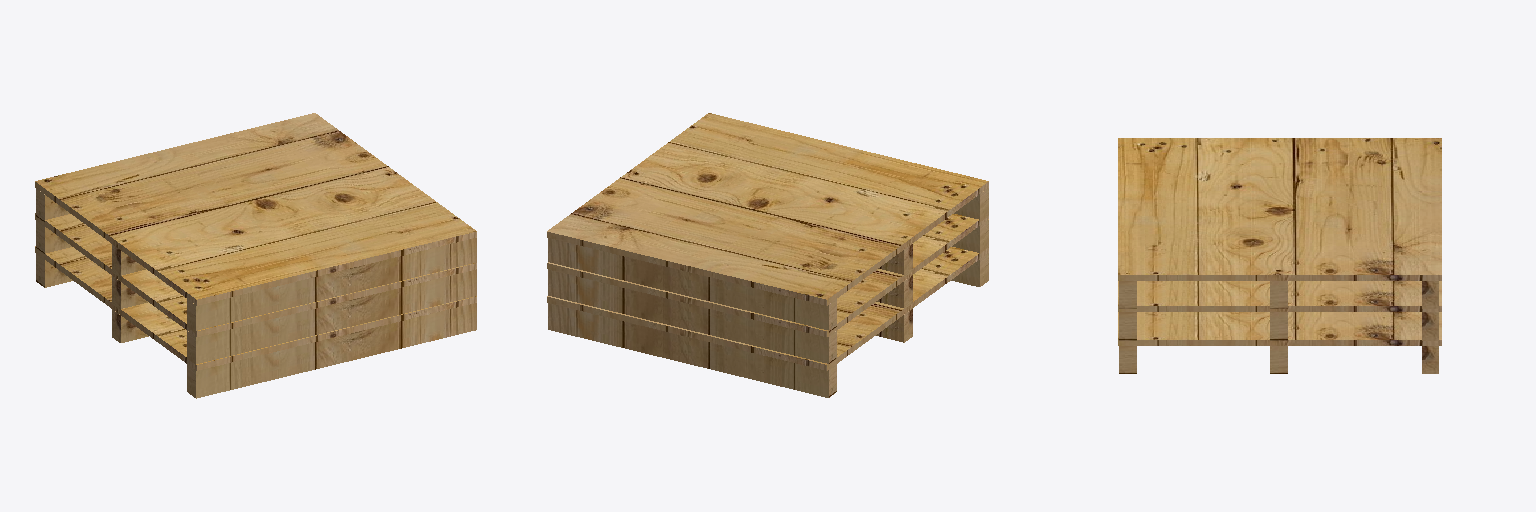
3 renders of one model, left to right at view 1: azimuth 30°, elevation 25°; view 2: azimuth 150°, elevation 25°; view 3: azimuth 270°, elevation 25°, orthographic.
Visible parts, largest first — view 1: Cube.002, Cube.000, Cube.001; view 2: Cube.002, Cube.000, Cube.001; view 3: Cube.002, Cube.000, Cube.001.
Boxes of the visible parts, x1,y1,x2,y2 form: Cube.002: [35, 113, 476, 332]; Cube.000: [35, 246, 476, 398]; Cube.001: [35, 213, 476, 364]; Cube.002: [547, 113, 988, 332]; Cube.000: [547, 247, 988, 397]; Cube.001: [547, 214, 988, 363]; Cube.002: [1118, 138, 1441, 308]; Cube.000: [1118, 312, 1441, 373]; Cube.001: [1118, 281, 1441, 340].
Bounding box in the file's own units: 1.2 × 0.406 × 1.2.
1 materials, 1 textured.